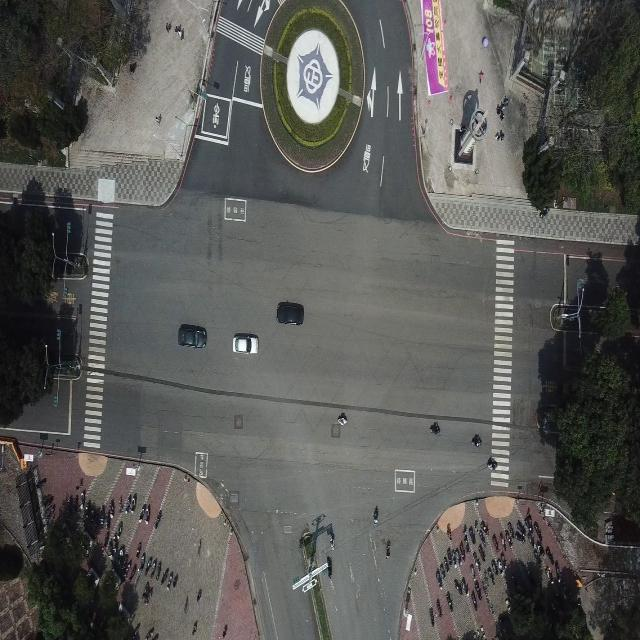bike: (471, 433, 484, 450), (486, 455, 499, 472), (336, 409, 349, 426), (118, 544, 128, 565), (445, 589, 454, 612), (143, 580, 151, 605), (384, 536, 392, 561), (447, 547, 455, 570), (429, 604, 437, 627), (480, 518, 488, 540), (470, 553, 478, 575), (462, 535, 470, 557), (456, 577, 465, 596), (169, 568, 176, 592), (128, 493, 136, 514), (436, 564, 443, 587), (105, 504, 112, 527), (456, 550, 464, 570), (479, 542, 487, 562), (504, 521, 512, 540), (546, 547, 554, 566), (472, 580, 479, 601), (148, 555, 154, 579), (528, 531, 537, 547), (148, 625, 158, 639), (136, 541, 142, 564), (430, 421, 440, 434), (144, 502, 150, 523), (160, 566, 166, 586), (328, 525, 333, 546), (373, 502, 378, 522)
car: (272, 297, 307, 327), (177, 323, 206, 347), (232, 332, 258, 354)
